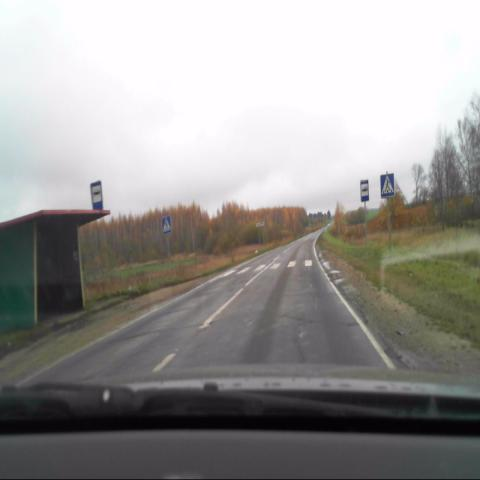5_16: (90, 180, 104, 214)
